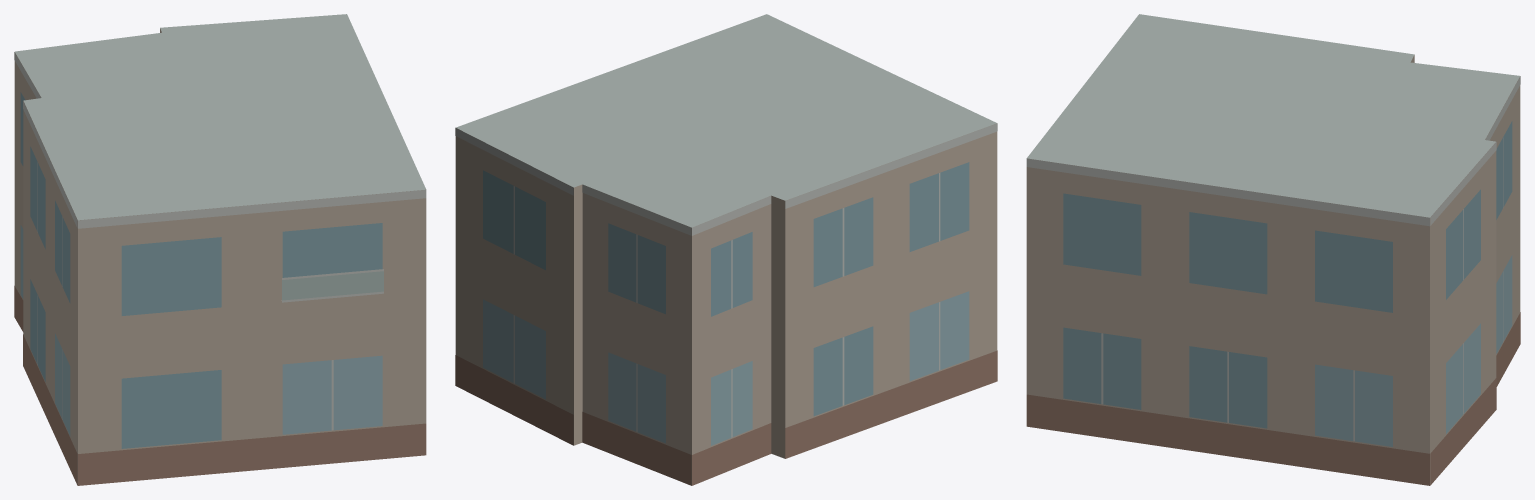
File: survey-upis-32671501.glb
3 renders of one model, left to right at view 1: azimuth 30°, elevation 25°; view 2: azimuth 150°, elevation 25°; view 3: azimuth 270°, elevation 25°, orthographic. The views are drawn at different scales.
Parts seen in each view (by area): view 1: survey-upis-32671501.tmp; view 2: survey-upis-32671501.tmp; view 3: survey-upis-32671501.tmp.
Part boxes in pixels (x1,y1,x2,y2): survey-upis-32671501.tmp: (14, 14, 426, 485); survey-upis-32671501.tmp: (455, 14, 997, 485); survey-upis-32671501.tmp: (1026, 14, 1520, 485).
Size of the model in its own units: 12.39 by 7.6 by 12.7.
